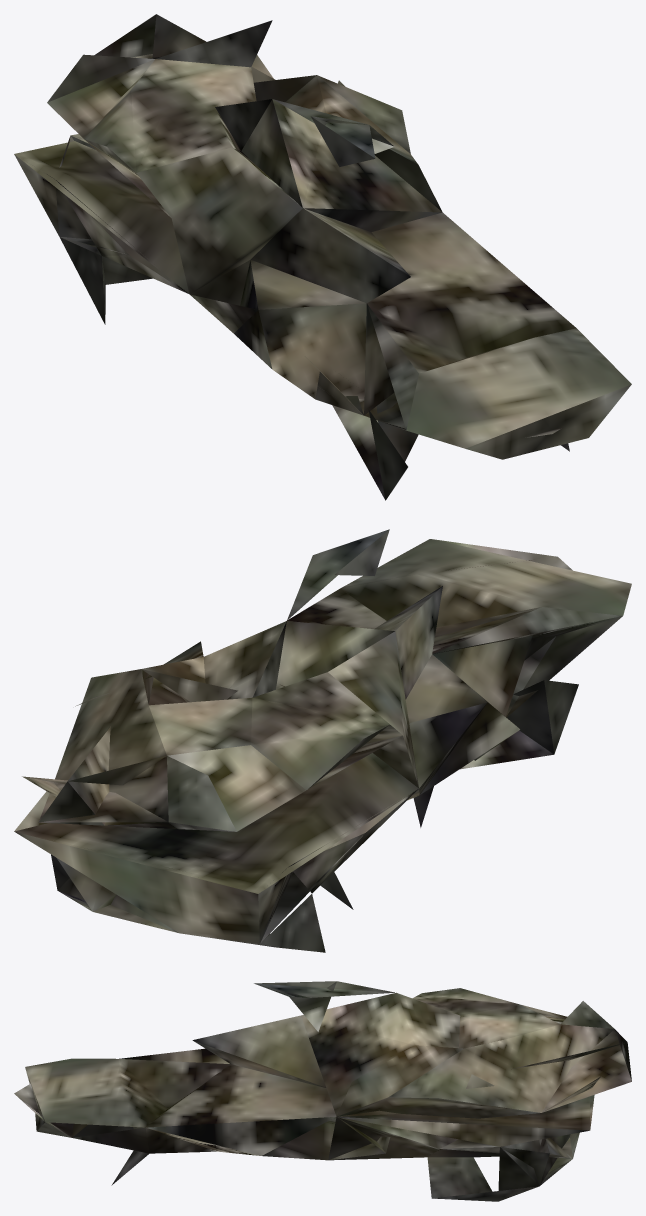
File: aa_vehicle_1281601400_lod1.glb
3 renders of one model, top to bottom at view 1: azimuth 30°, elevation 25°; view 2: azimuth 150°, elevation 25°; view 3: azimuth 270°, elevation 25°, orthographic. The views are drawn at different scales.
Size of the model in its own units: 2.78 by 2.52 by 7.56.
1 material, 1 textured.
